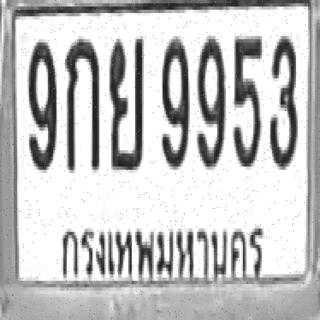A01: (64, 36, 98, 170)
A34: (108, 34, 142, 168)
N03: (268, 32, 296, 166)
N05: (231, 32, 260, 166)
N09: (195, 32, 224, 166), (27, 38, 55, 168), (161, 36, 188, 166)
